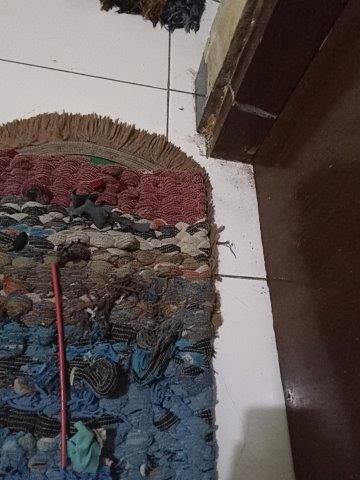sedotan: (51, 264, 68, 467)
